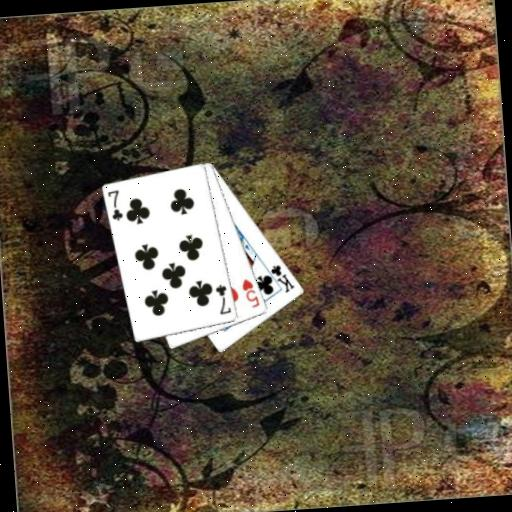5H: (239, 276, 262, 311)
7C: (105, 187, 126, 223), (212, 282, 233, 317)
KC: (262, 261, 296, 296)
